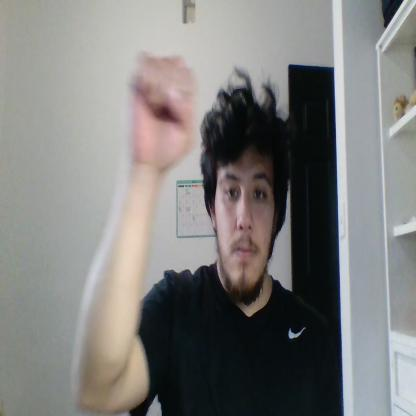S: (125, 50, 195, 171)
